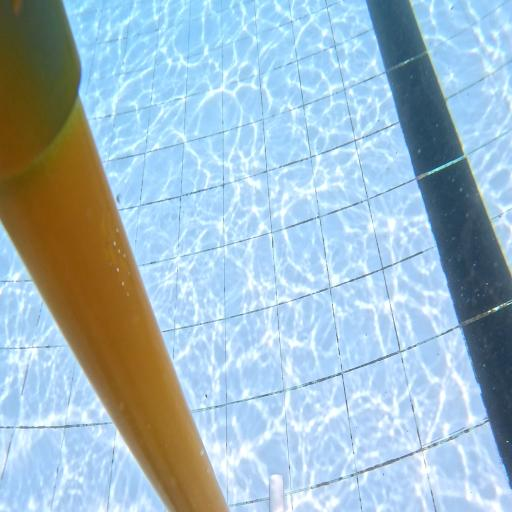pole_gate: (0, 0, 230, 512)
